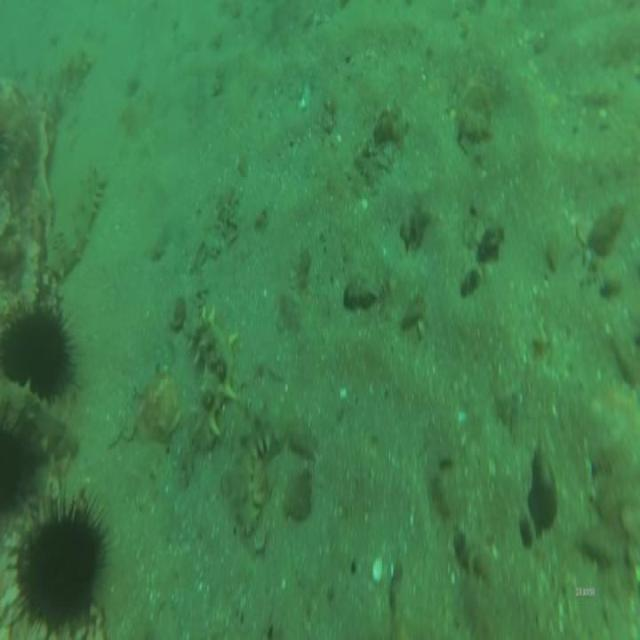echinus: (0, 479, 124, 624), (6, 289, 84, 408), (0, 419, 48, 510)
holothurian: (182, 302, 242, 460), (44, 164, 108, 288), (233, 409, 276, 539)
